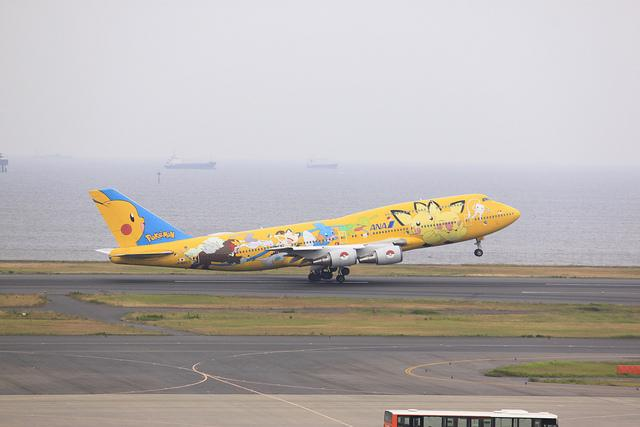airplane: (87, 186, 523, 285)
